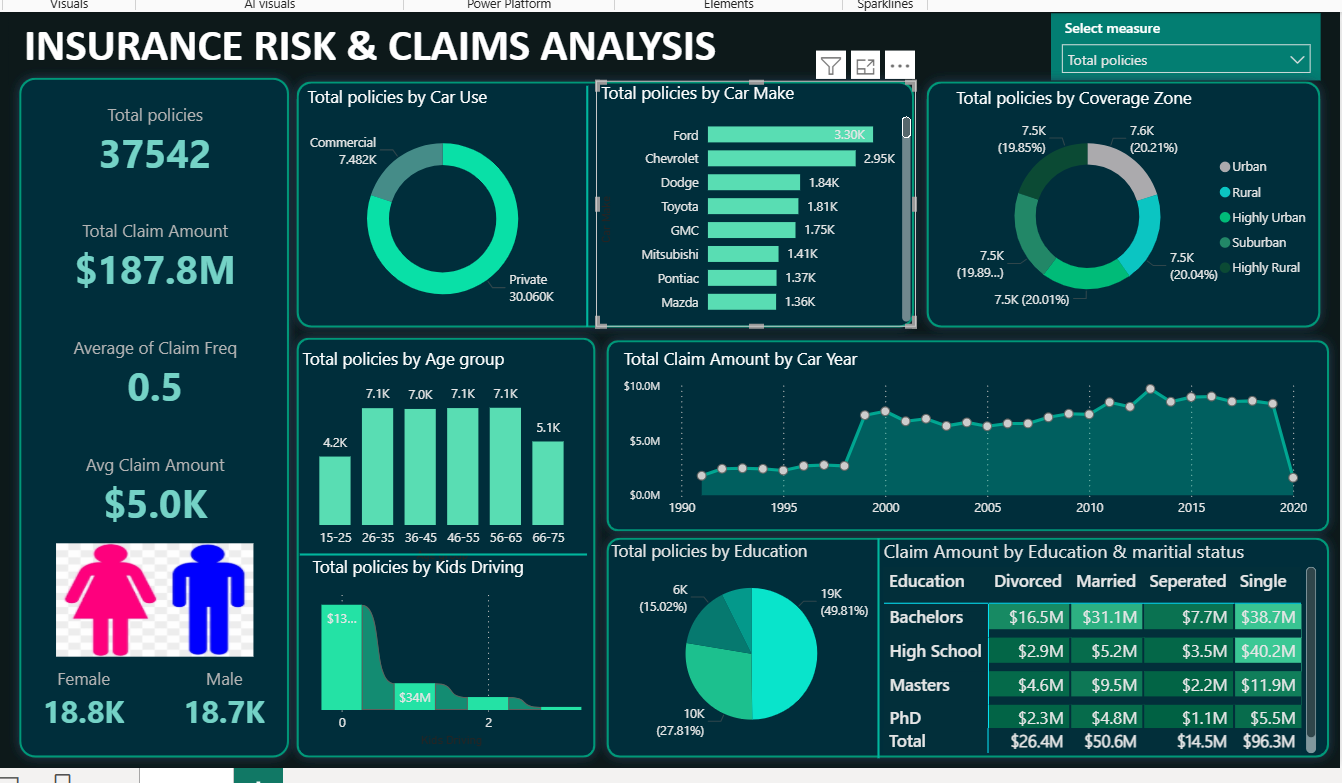

The page's visual inventory and layout, read from the dashboard file:
{"tool":"powerbi","page":{"name":"Page 1","canvas":[1280,720],"ordinal":0},"visuals":[{"type":"textbox","box":[12.3,0,710.8,70],"z":0},{"type":"shape","box":[11.9,52.4,277.4,667.9],"z":1000},{"type":"cardVisual","fields":{"Data":["insurance_data_car.Total policies","insurance_data_car.Total Claim Amount","Avg(insurance_data_car.Claim Freq)","insurance_data_car.Avg Claim Amount"]},"box":[16.7,69,270.2,435.7],"z":2000},{"type":"cardVisual","fields":{"Data":["insurance_data_car.Female Count","insurance_data_car.Male Count"]},"box":[21.4,516.7,259.5,185.7],"z":3000},{"type":"slicer","fields":{"Values":["Select measure.Select measure"]},"box":[1004.8,1.2,257.1,64.3],"z":4000},{"type":"shape","box":[276.2,56,608.3,254.8],"z":5000},{"type":"donutChart","fields":{"Y":["insurance_data_car.Total policies"],"Category":["insurance_data_car.Car Use"]},"box":[291.7,69,267.9,234.5],"z":6000},{"type":"clusteredBarChart","fields":{"Y":["insurance_data_car.Total policies"],"Category":["insurance_data_car.Car Make"]},"box":[571.4,65.5,304.8,234.5],"z":7000},{"type":"shape","box":[876.2,56,395.2,254.8],"z":8000},{"type":"donutChart","fields":{"Y":["insurance_data_car.Total policies"],"Category":["insurance_data_car.Coverage Zone"]},"box":[909.5,70.2,352.4,227.4],"z":9000},{"type":"shape","box":[276.2,300,304.8,420.2],"z":10000},{"type":"clusteredColumnChart","fields":{"Y":["insurance_data_car.Total policies"],"Category":["insurance_data_car.Age group"]},"box":[286.9,319,276.2,209.5],"z":11000},{"type":"image","box":[52.4,501.2,197.6,117.9],"z":12000},{"type":"ribbonChart","fields":{"Y":["insurance_data_car.Total policies"],"Category":["insurance_data_car.Kids Driving"]},"box":[296.4,516.7,275,188.1],"z":13000},{"type":"shape","box":[571.4,302.4,708.3,202.4],"z":14000},{"type":"areaChart","fields":{"Category":["insurance_data_car.Car Year"],"Y":["insurance_data_car.Total Claim Amount"]},"box":[592.9,319,660.7,171.4],"z":15000},{"type":"shape","box":[571.4,490.5,708.3,229.8],"z":16000},{"type":"pieChart","fields":{"Y":["insurance_data_car.Total policies"],"Category":["insurance_data_car.Education"]},"box":[581,501.2,277.4,198.8],"z":17000},{"type":"pivotTable","title":"Claim Amount by Education & maritial status","fields":{"Rows":["insurance_data_car.Education"],"Columns":["insurance_data_car.Marital Status"],"Values":["insurance_data_car.Total Claim Amount"]},"box":[840.5,501.2,421.4,209.5],"z":18000},{"type":"shape","box":[413.1,70.2,300,229.8],"z":19000},{"type":"shape","box":[690.5,501.2,300,209.5],"z":20000},{"type":"shape","box":[289.3,423.8,273.8,185.7],"z":21000}]}

Visuals, with their boxes on the page's 1280x720 design canvas (x1, y1, x2, y2). These are canvas units, not pixel positions in the 1342x783 screenshot, which may show the page scaled, cropped or inside an application window:
textbox: (12,0,723,70)
shape: (12,52,289,720)
cardVisual - insurance_data_car.Total policies x insurance_data_car.Total Claim Amount: (17,69,287,505)
cardVisual - insurance_data_car.Female Count x insurance_data_car.Male Count: (21,517,281,702)
slicer - Select measure.Select measure: (1005,1,1262,66)
shape: (276,56,884,311)
donutChart - insurance_data_car.Total policies x insurance_data_car.Car Use: (292,69,560,304)
clusteredBarChart - insurance_data_car.Total policies x insurance_data_car.Car Make: (571,66,876,300)
shape: (876,56,1271,311)
donutChart - insurance_data_car.Total policies x insurance_data_car.Coverage Zone: (910,70,1262,298)
shape: (276,300,581,720)
clusteredColumnChart - insurance_data_car.Total policies x insurance_data_car.Age group: (287,319,563,528)
image: (52,501,250,619)
ribbonChart - insurance_data_car.Total policies x insurance_data_car.Kids Driving: (296,517,571,705)
shape: (571,302,1280,505)
areaChart - insurance_data_car.Car Year x insurance_data_car.Total Claim Amount: (593,319,1254,490)
shape: (571,490,1280,720)
pieChart - insurance_data_car.Total policies x insurance_data_car.Education: (581,501,858,700)
"Claim Amount by Education & maritial status" pivotTable: (840,501,1262,711)
shape: (413,70,713,300)
shape: (690,501,990,711)
shape: (289,424,563,610)
